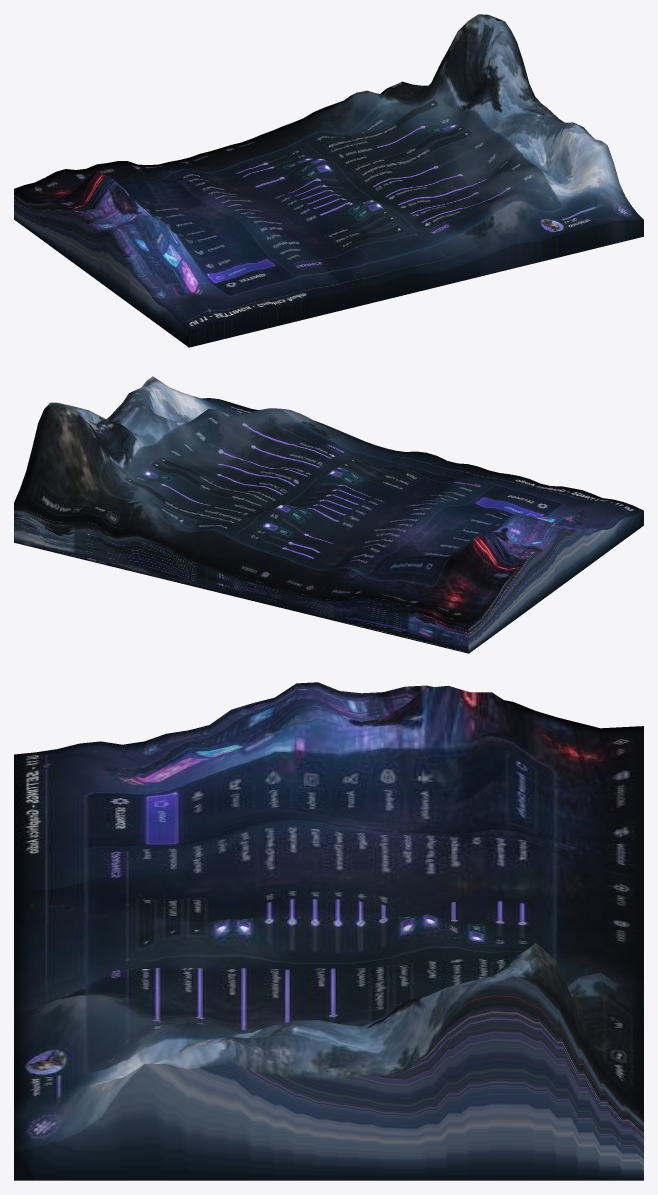
File: UI_11_Settings.glb
3 renders of one model, top to bottom at view 1: azimuth 30°, elevation 25°; view 2: azimuth 150°, elevation 25°; view 3: azimuth 270°, elevation 25°, orthographic. The views are drawn at different scales.
Visible parts, largest first — view 1: UI_11_Settings; view 2: UI_11_Settings; view 3: UI_11_Settings.
Part boxes in pixels (x1,y1,x2,y2): UI_11_Settings: [14, 14, 643, 347]; UI_11_Settings: [14, 376, 643, 653]; UI_11_Settings: [14, 682, 643, 1180].
Size of the model in its own units: 2 by 0.51 by 1.33.
1 material, 1 textured.
